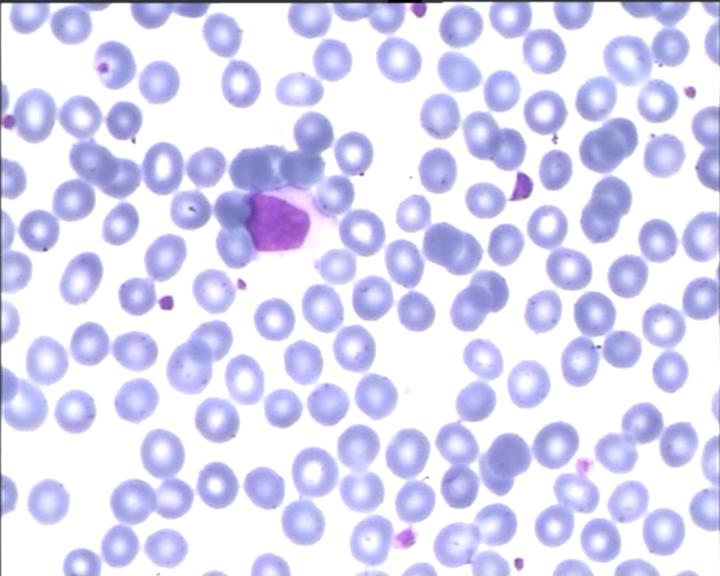mono: (237, 182, 345, 260)
